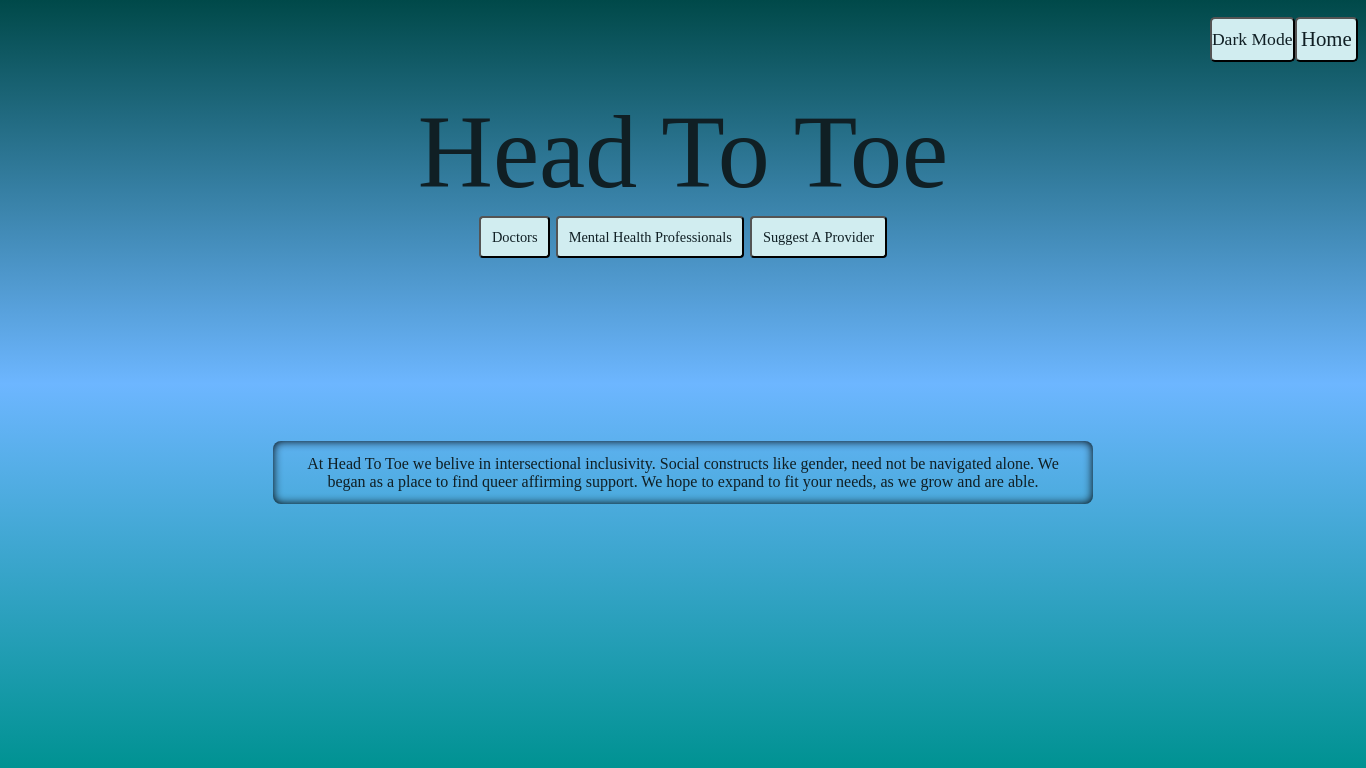
Test: Router Flow › should display the doctors page when the doctor button is pressed
Step 1. Click the button with id "doctors-button" → (515, 237), box [479,216,550,258]
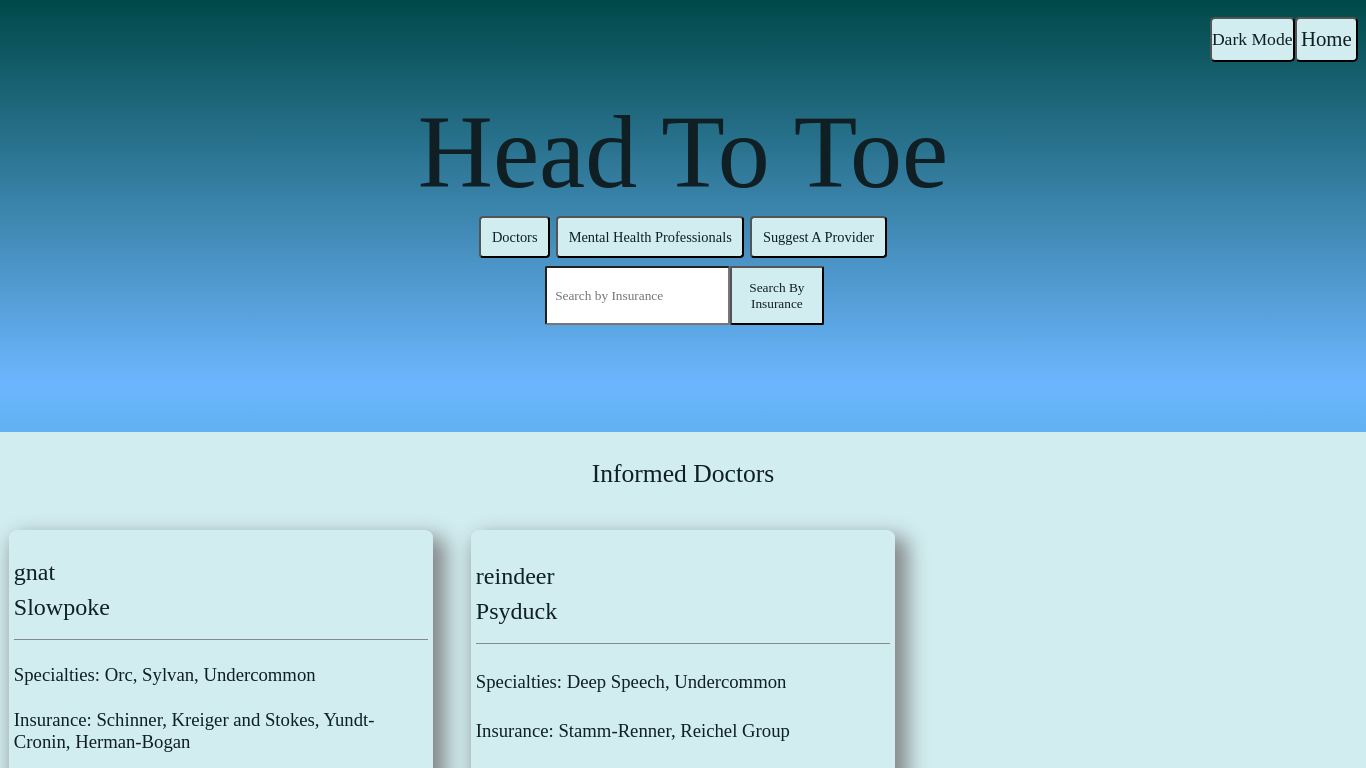
Result: the heading with class "dr-sub-title" reads "Informed Doctors" at [592,459,775,488]
